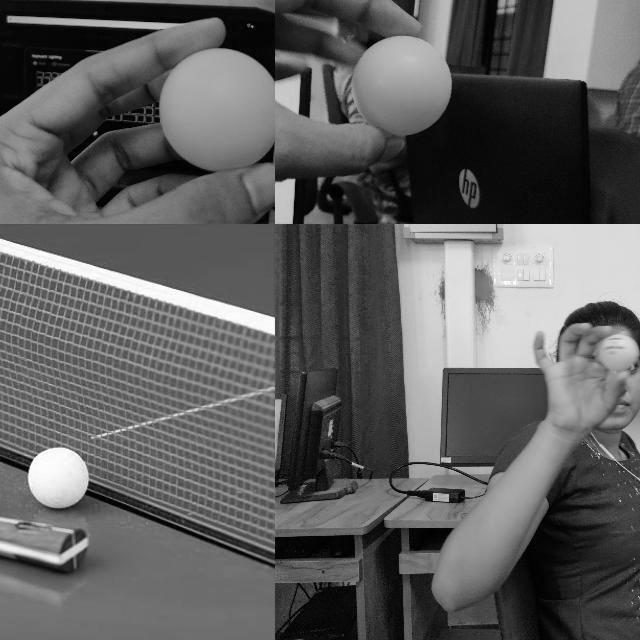ping-pong-ball: (159, 46, 274, 170), (351, 36, 451, 136), (26, 447, 88, 509), (600, 335, 638, 371)
